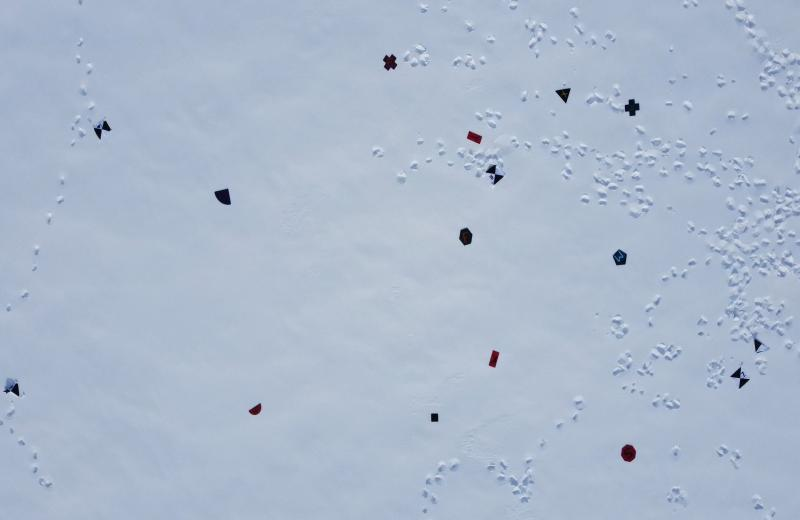Cross: (624, 97, 640, 118), (382, 52, 398, 72)
Hexagon: (459, 228, 473, 246)
Octagon: (621, 443, 637, 462)
Pentagon: (610, 248, 628, 266)
Quarter Circle: (214, 188, 232, 206)
Rectangle: (486, 348, 500, 369), (467, 128, 483, 146)
Semi Circle: (247, 403, 262, 415)
Square: (430, 412, 439, 423)
Triangle: (555, 86, 572, 105)
